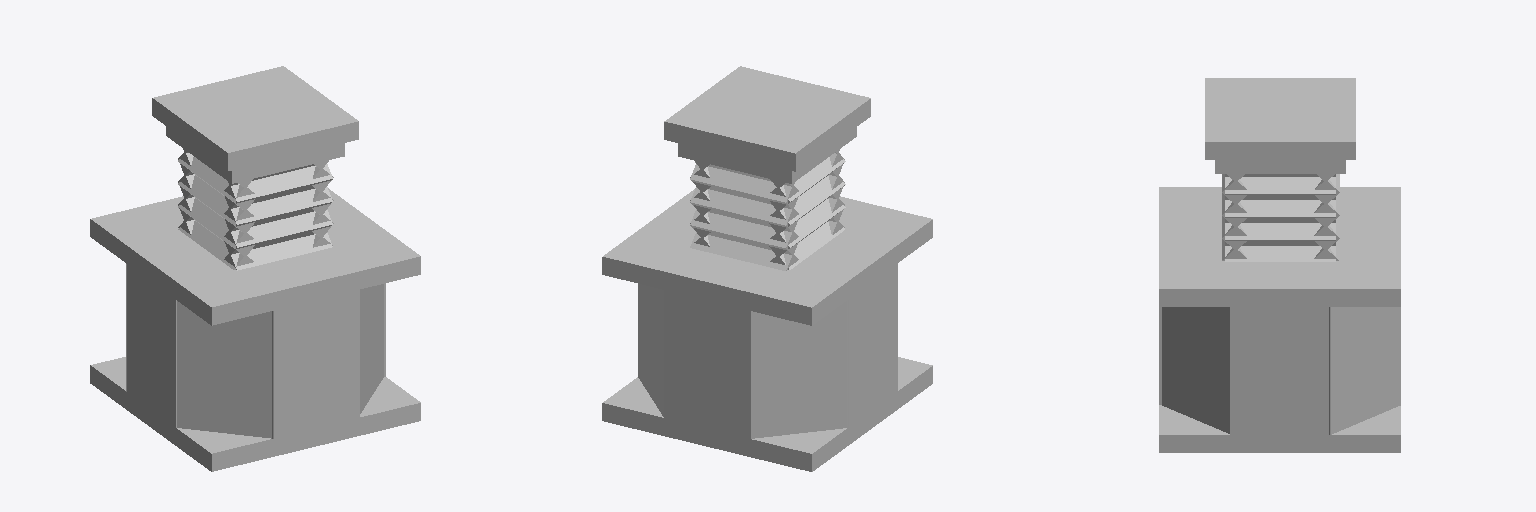
Rendered from generator.obj.
3 views of the same model, side by side, from view 1: azimuth 30°, elevation 25°; view 2: azimuth 150°, elevation 25°; view 3: azimuth 270°, elevation 25° (orthographic).
Visible parts, largest first — view 1: top, pane, center, hatcap, cube, bottom, hat; view 2: top, pane, center, hatcap, cube, bottom, hat; view 3: top, center, pane, hatcap, cube, bottom, hat.
Boxes of the visible parts, box(x1,y1,x2,y2) form: top: box(90, 188, 420, 325); pane: box(127, 264, 385, 438); center: box(126, 264, 383, 438); hatcap: box(152, 66, 358, 170); cube: box(178, 149, 333, 270); bottom: box(90, 357, 420, 471); hat: box(166, 126, 344, 183); top: box(602, 189, 932, 325); pane: box(664, 264, 897, 438); center: box(638, 284, 848, 438); hatcap: box(664, 66, 870, 171); cube: box(690, 149, 845, 270); bottom: box(602, 357, 932, 471); hat: box(678, 127, 856, 183); top: box(1159, 187, 1400, 306); center: box(1162, 307, 1400, 434); pane: box(1159, 307, 1330, 434); hatcap: box(1205, 78, 1355, 159); cube: box(1222, 174, 1339, 261); bottom: box(1159, 405, 1400, 452); hat: box(1215, 160, 1345, 173).
Size of the model in its own units: 12.07 by 16 by 12.04.